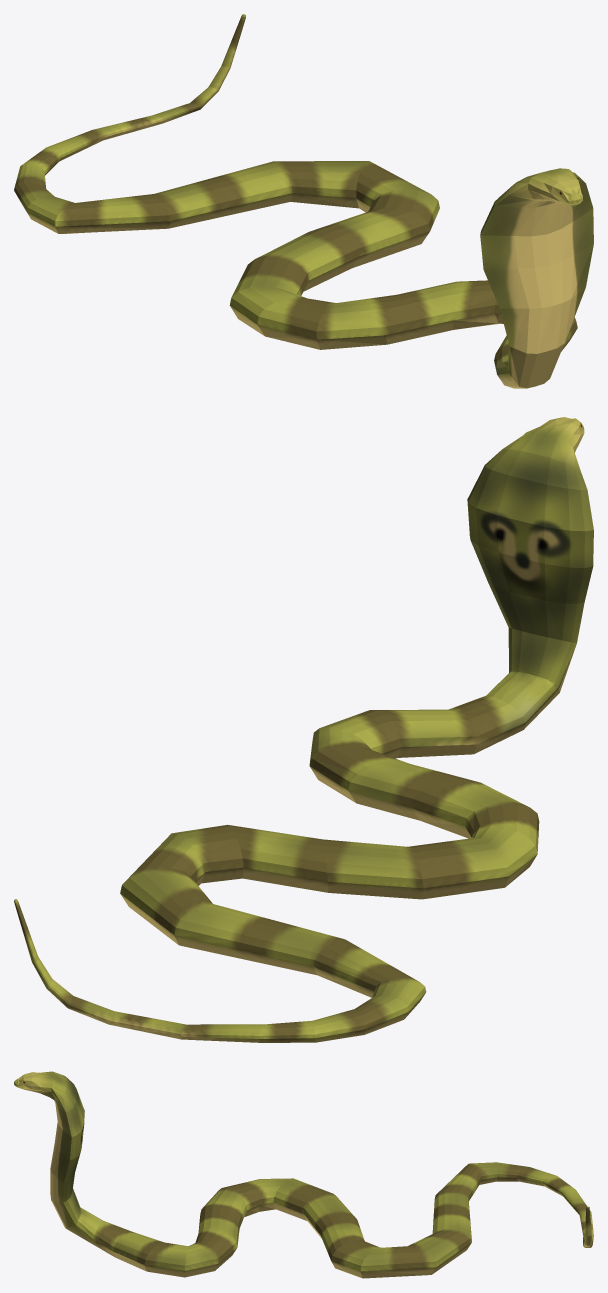
The model's file is cobra.glb.
3 renders of one model, top to bottom at view 1: azimuth 30°, elevation 25°; view 2: azimuth 150°, elevation 25°; view 3: azimuth 270°, elevation 25°, orthographic. The views are drawn at different scales.
Parts seen in each view (by area): view 1: Node; view 2: Node; view 3: Node.
Boxes of the visible parts, x1,y1,x2,y2 form: Node: (14, 14, 593, 388); Node: (14, 417, 593, 1042); Node: (14, 1071, 593, 1278).
Bounding box in the file's own units: 7.22 × 5.5 × 16.82.
3 materials, 1 textured.
